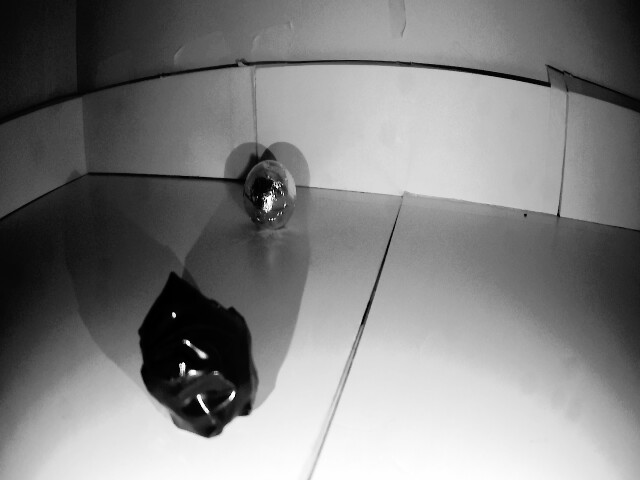black: (125, 279, 263, 442)
silver: (242, 165, 302, 233)
